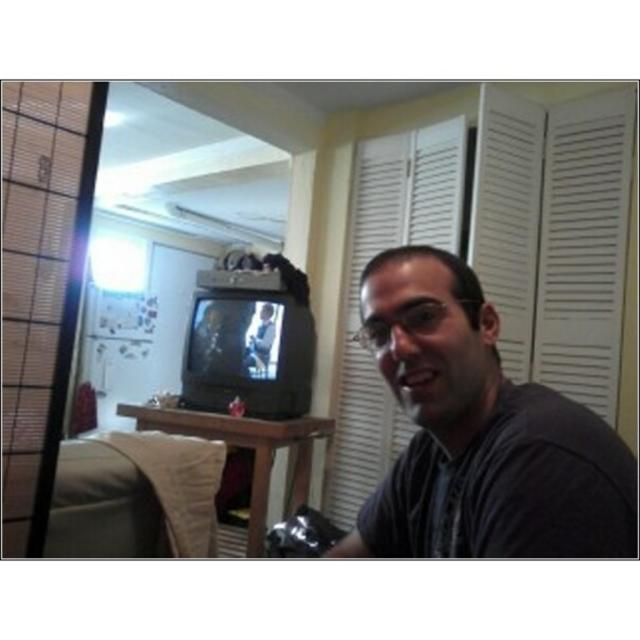Glasses: (351, 301, 479, 354)
